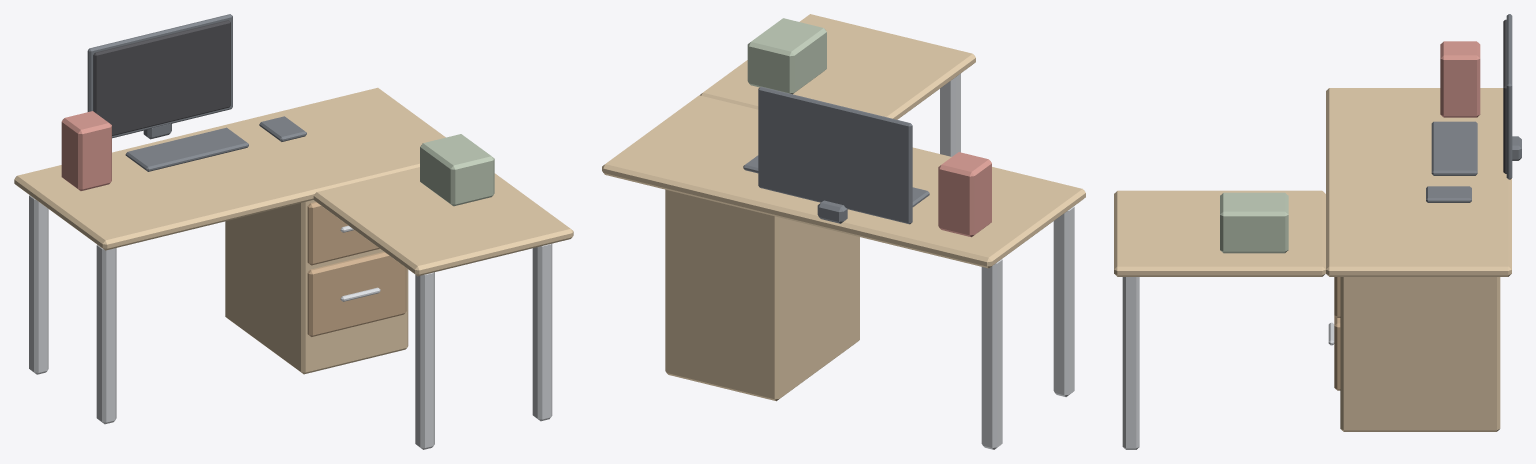
The model's file is CornerDesk.glb.
3 renders of one model, left to right at view 1: azimuth 30°, elevation 25°; view 2: azimuth 150°, elevation 25°; view 3: azimuth 270°, elevation 25°, orthographic. The views are drawn at different scales.
Parts seen in each view (by area): view 1: CornerDesk_Body; view 2: CornerDesk_Body; view 3: CornerDesk_Body.
Part boxes in pixels (x1,y1,x2,y2): CornerDesk_Body: (14, 14, 573, 449); CornerDesk_Body: (602, 14, 1085, 449); CornerDesk_Body: (1114, 14, 1521, 449).
Size of the model in its own units: 1.5 by 1.16 by 1.42.
